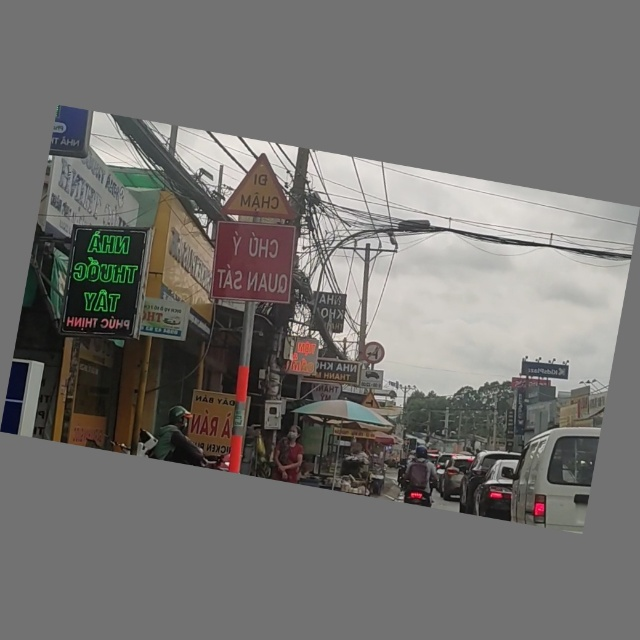P.139: (357, 339, 387, 370)
S.505a*Xe tai: (360, 370, 384, 391)
W.205b: (359, 389, 382, 411)
W.245a: (215, 148, 305, 229)
